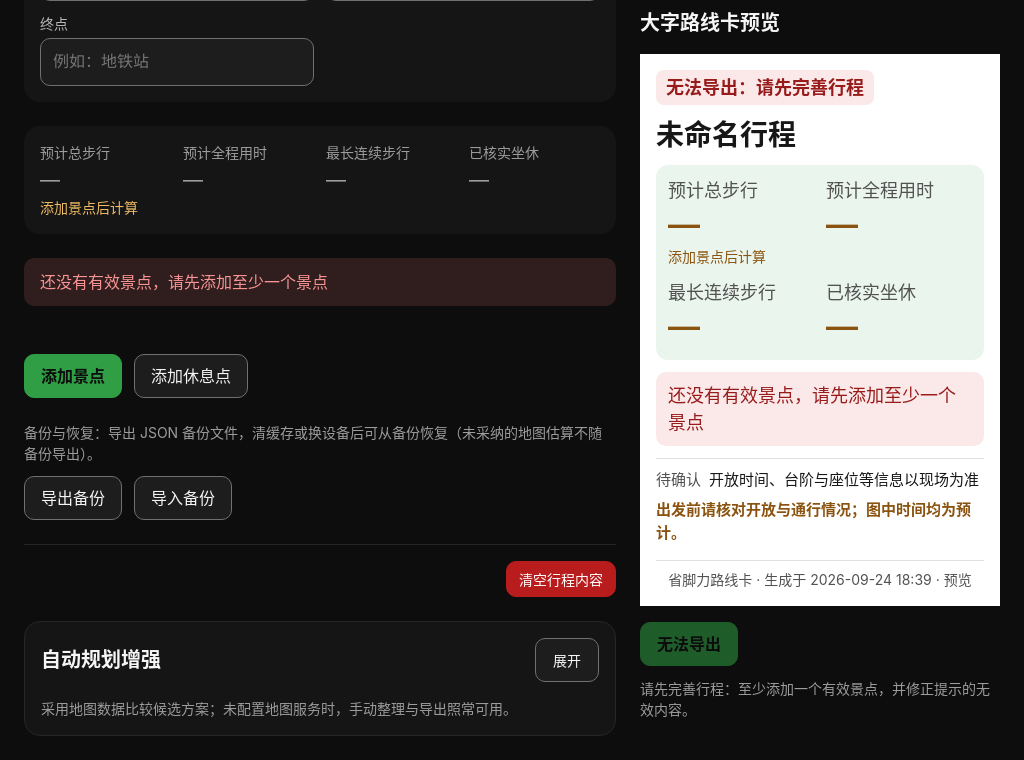
it: 应用组件流程 › 园内步行大于停留时阻止确认并指出字段（A07）
(page scrolled)
Click the button "添加景点" at x=73, y=376, box [24,354,122,398]
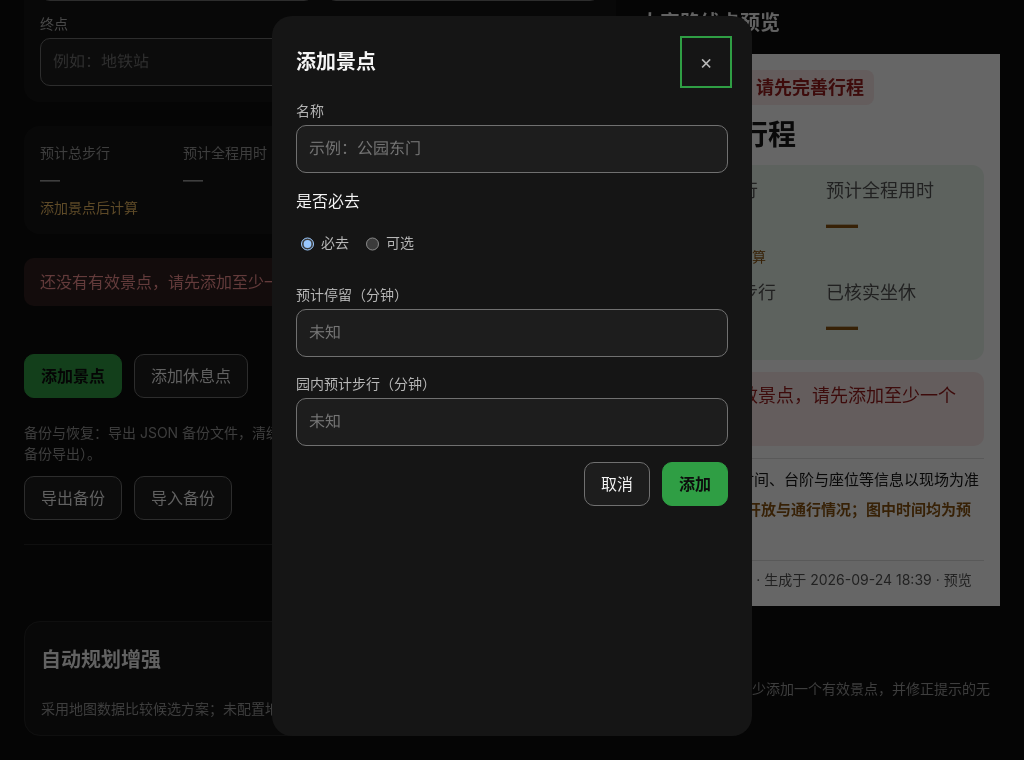
Type "示例景点丙" into the field labelled "名称" at x=512, y=149, box [296,125,728,173]
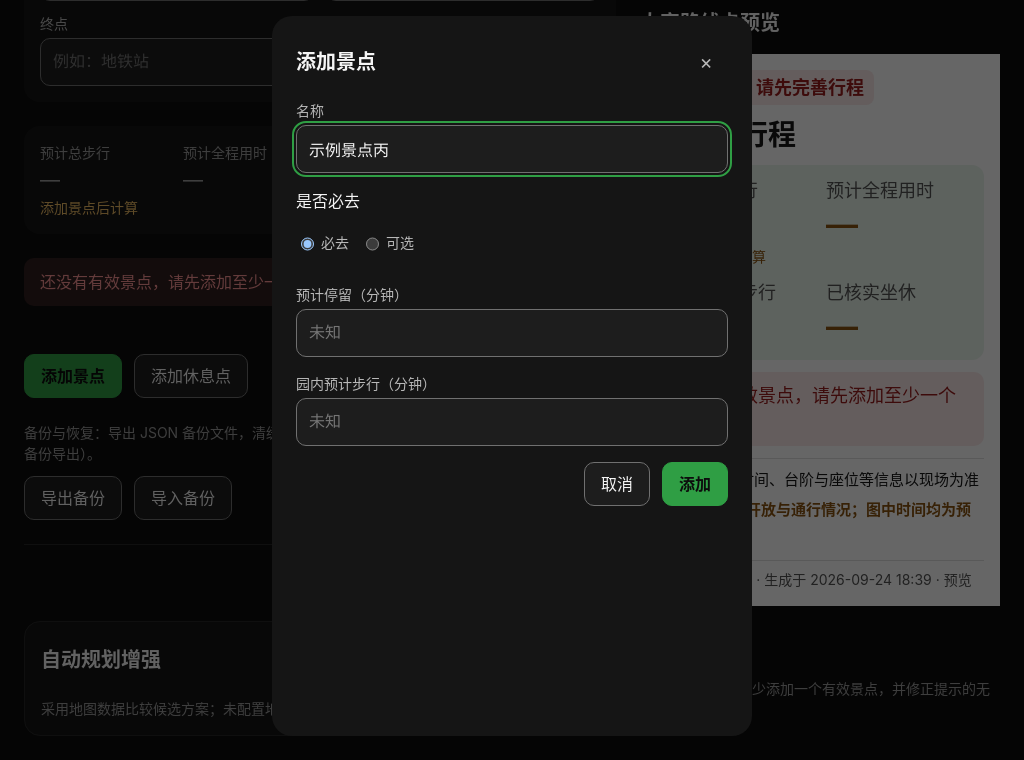
Type "30" into the field labelled "预计停留（分钟）" at x=512, y=333, box [296,309,728,357]
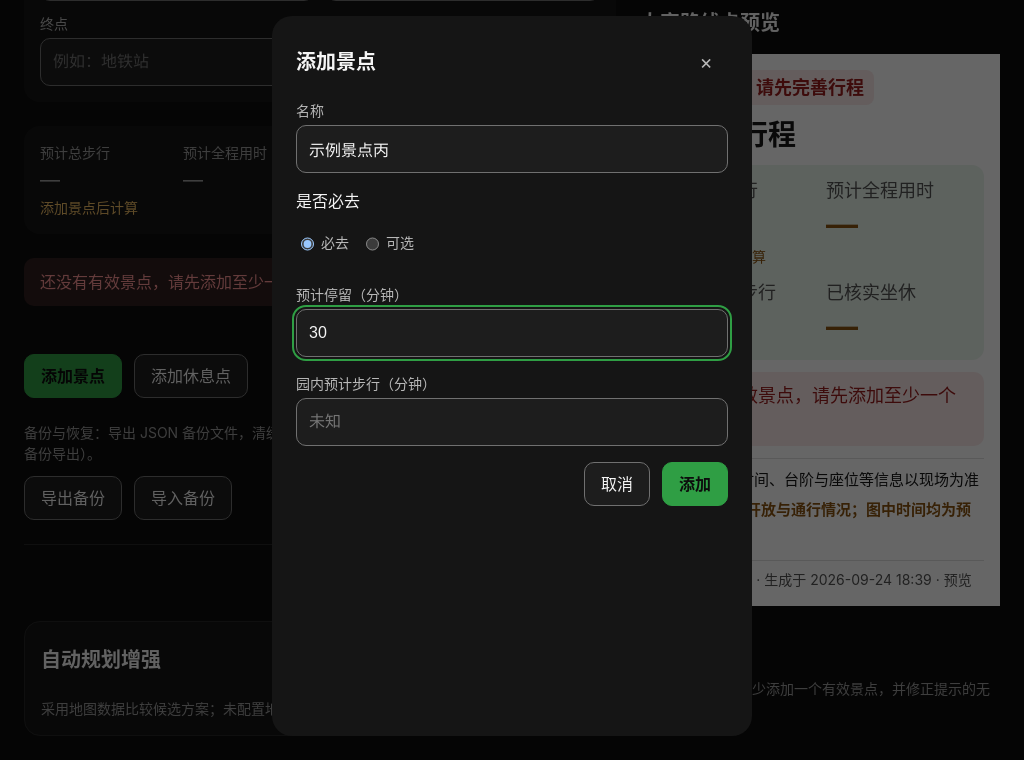
Type "40" into the field labelled "园内预计步行（分钟）" at x=512, y=422, box [296,398,728,446]
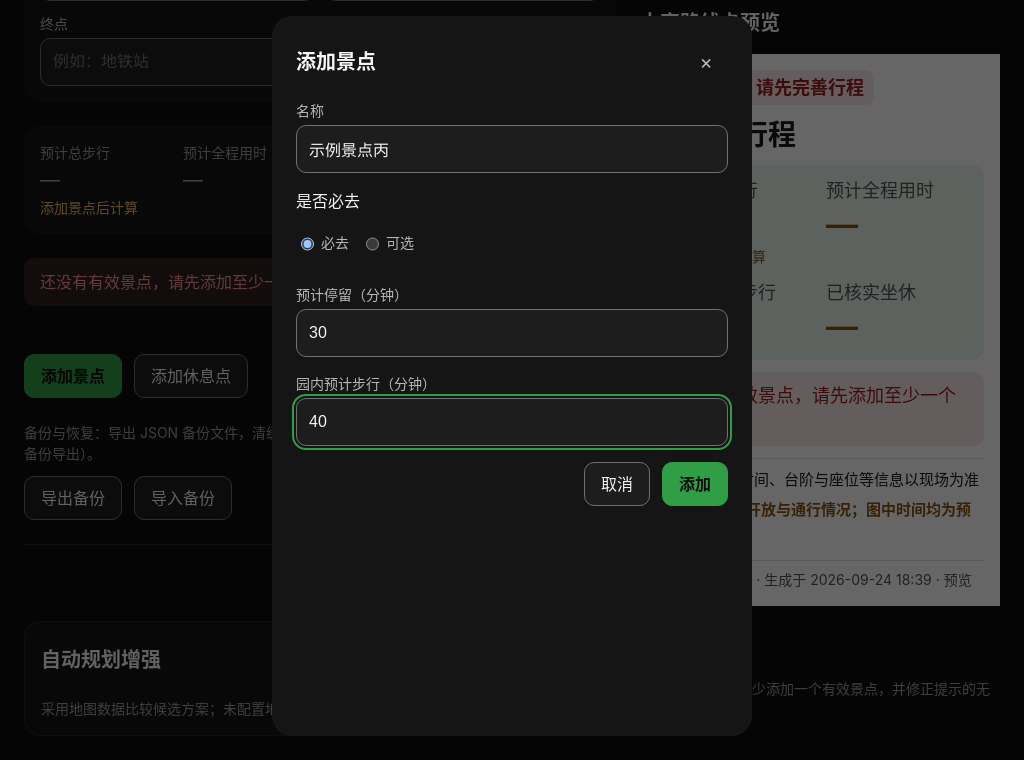
Click the button "添加" at x=695, y=484, box [662,462,728,506]
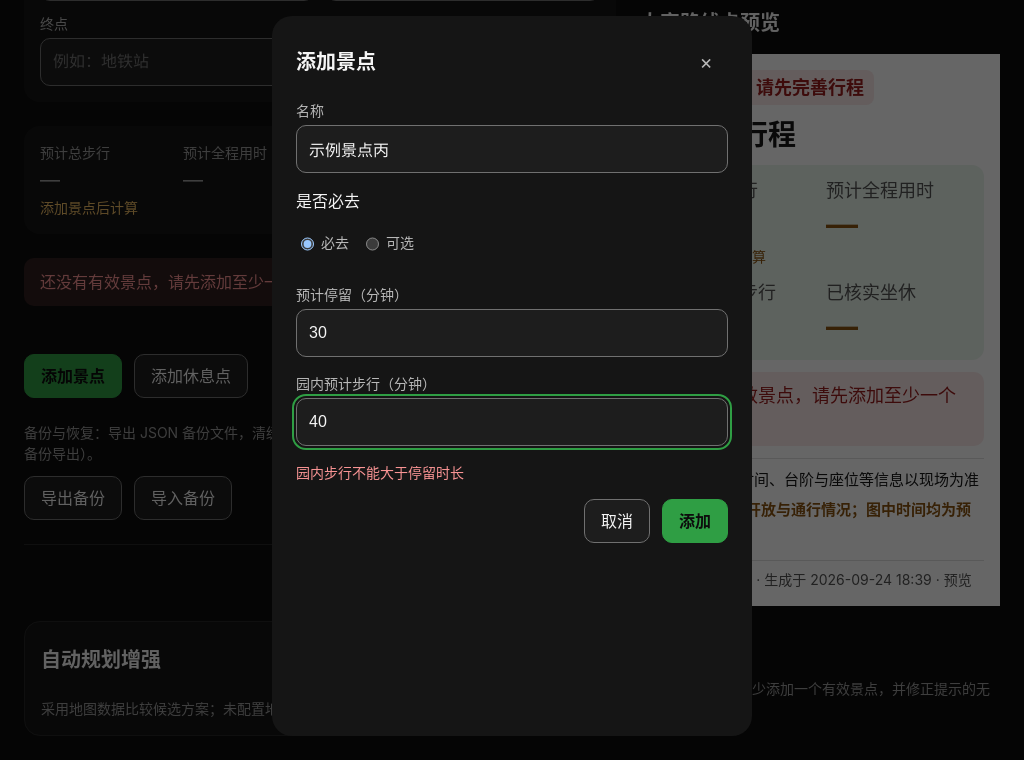
Expected: the message reads "园内步行不能大于停留时长", [296,464,464,481]
